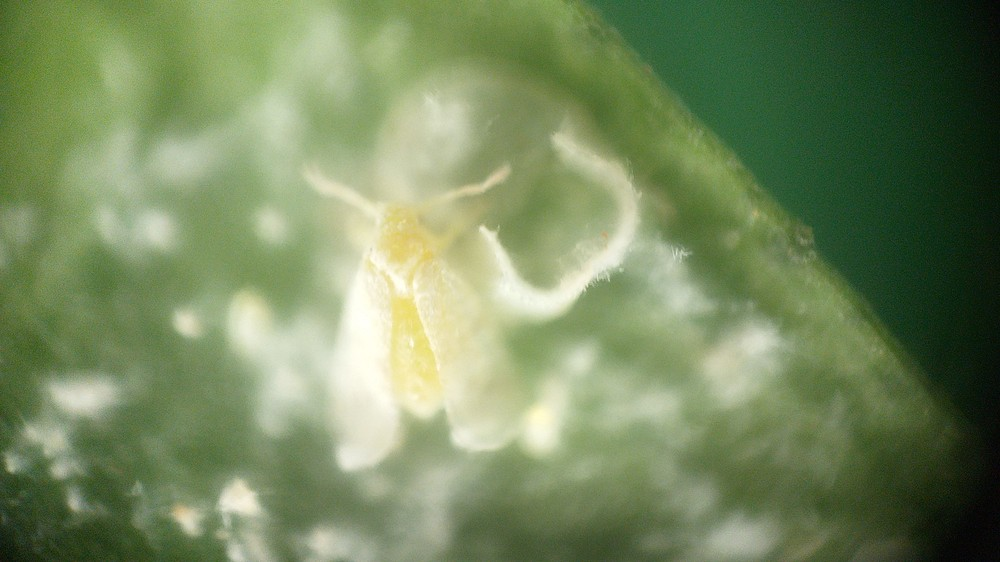Mosca Blanca: (279, 152, 560, 477)
